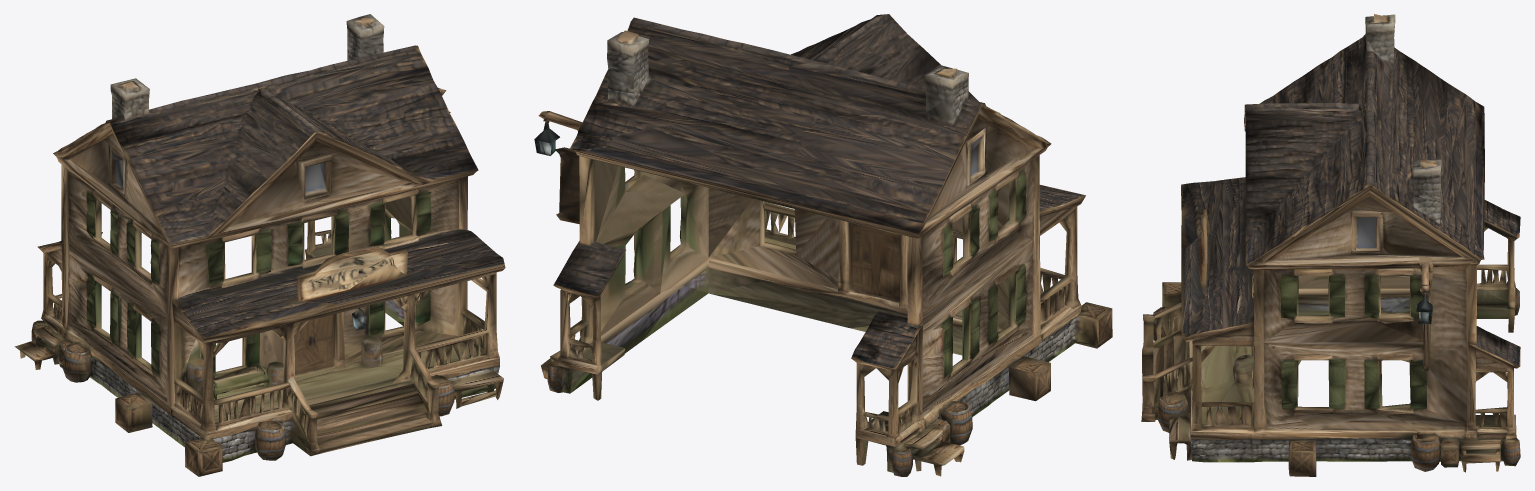
Rendered from TownCenterFarShell.fbx.
3 views of the same model, side by side, from view 1: azimuth 30°, elevation 25°; view 2: azimuth 150°, elevation 25°; view 3: azimuth 270°, elevation 25° (orthographic). The views are drawn at different scales.
Visible parts, largest first — view 1: TC_Shell; view 2: TC_Shell; view 3: TC_Shell.
Boxes of the visible parts, x1,y1,x2,y2 form: TC_Shell: (14,14,505,476); TC_Shell: (534,14,1112,476); TC_Shell: (1141,14,1520,476).
Size of the model in its own units: 1420 by 1053 by 1162.
Materials: 1 (1 with a texture image).
